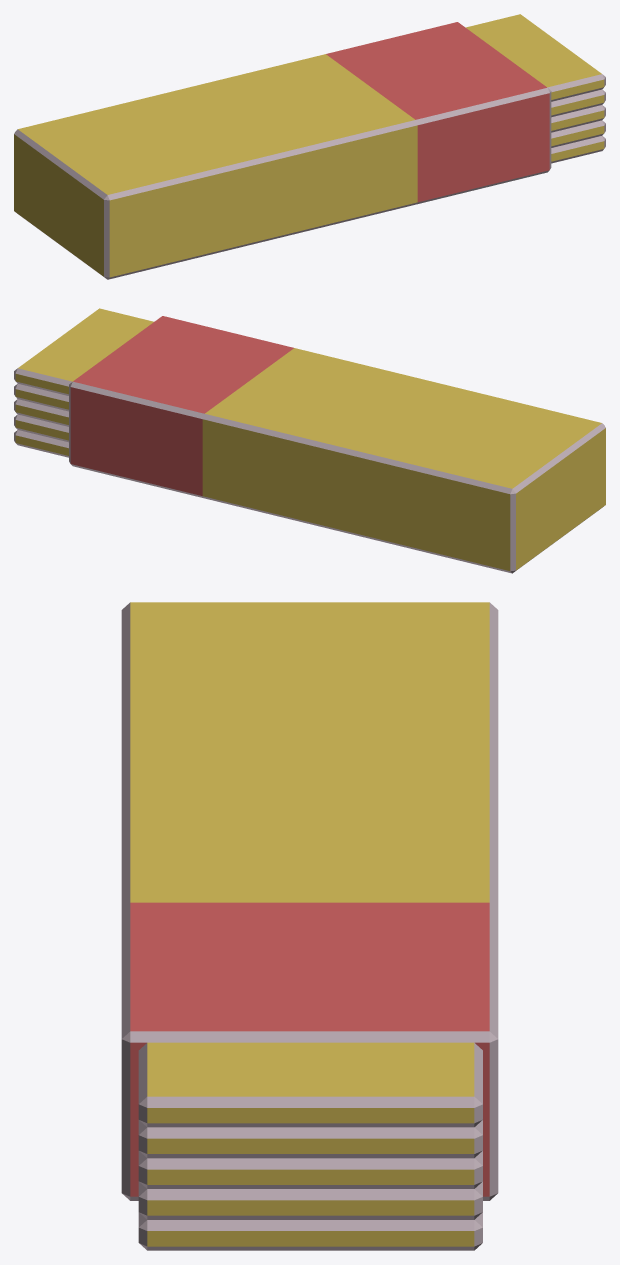
The model's file is bubbleGUM1.fbx.
The picture shows the model from 3 angles, top to bottom: view 1: azimuth 30°, elevation 25°; view 2: azimuth 150°, elevation 25°; view 3: azimuth 270°, elevation 25°; orthographic projection. The views are drawn at different scales.
Visible parts, largest first — view 1: polySurface61, polySurface60, Test14, Test12, Test11, Test9, Test7, Test3, Test5, Test8, Test4, Test10 (+1 smaller); view 2: polySurface61, polySurface60, Test14, Test12, Test11, Test9, Test7, Test3, Test5, Test4, Test10, Test6 (+1 smaller); view 3: polySurface61, polySurface60, Test12, Test14, Test11, Test5, Test9, Test7, Test3, Test6, Test4, Test10 (+1 smaller).
Boxes of the visible parts, x1=… form: polySurface61: x1=14, y1=54, x2=417, y2=277; polySurface60: x1=326, y1=22, x2=549, y2=202; Test14: x1=14, y1=87, x2=551, y2=279; Test12: x1=466, y1=14, x2=604, y2=99; Test11: x1=547, y1=74, x2=605, y2=101; Test9: x1=551, y1=89, x2=605, y2=117; Test7: x1=551, y1=105, x2=605, y2=132; Test3: x1=551, y1=136, x2=605, y2=163; Test5: x1=551, y1=120, x2=605, y2=147; Test8: x1=551, y1=110, x2=604, y2=130; Test4: x1=551, y1=141, x2=604, y2=161; Test10: x1=551, y1=95, x2=604, y2=115; polySurface61: x1=202, y1=348, x2=605, y2=570; polySurface60: x1=70, y1=316, x2=293, y2=495; Test14: x1=69, y1=381, x2=605, y2=573; Test12: x1=15, y1=308, x2=153, y2=394; Test11: x1=14, y1=368, x2=71, y2=395; Test9: x1=14, y1=383, x2=68, y2=411; Test7: x1=14, y1=399, x2=68, y2=426; Test3: x1=14, y1=430, x2=68, y2=457; Test5: x1=14, y1=414, x2=68, y2=442; Test4: x1=15, y1=435, x2=68, y2=455; Test10: x1=15, y1=389, x2=68, y2=409; Test6: x1=15, y1=420, x2=68, y2=440; polySurface61: x1=130, y1=602, x2=489, y2=902; polySurface60: x1=130, y1=902, x2=489, y2=1196; Test12: x1=147, y1=1042, x2=474, y2=1123; Test14: x1=121, y1=602, x2=498, y2=1200; Test11: x1=138, y1=1043, x2=482, y2=1127; Test5: x1=138, y1=1181, x2=482, y2=1219; Test9: x1=138, y1=1120, x2=482, y2=1158; Test7: x1=138, y1=1151, x2=482, y2=1188; Test3: x1=138, y1=1212, x2=482, y2=1250; Test6: x1=147, y1=1200, x2=474, y2=1215; Test4: x1=147, y1=1231, x2=474, y2=1246; Test10: x1=147, y1=1138, x2=474, y2=1153.
Size of the model in its own units: 192 by 30.68 by 61.78.
